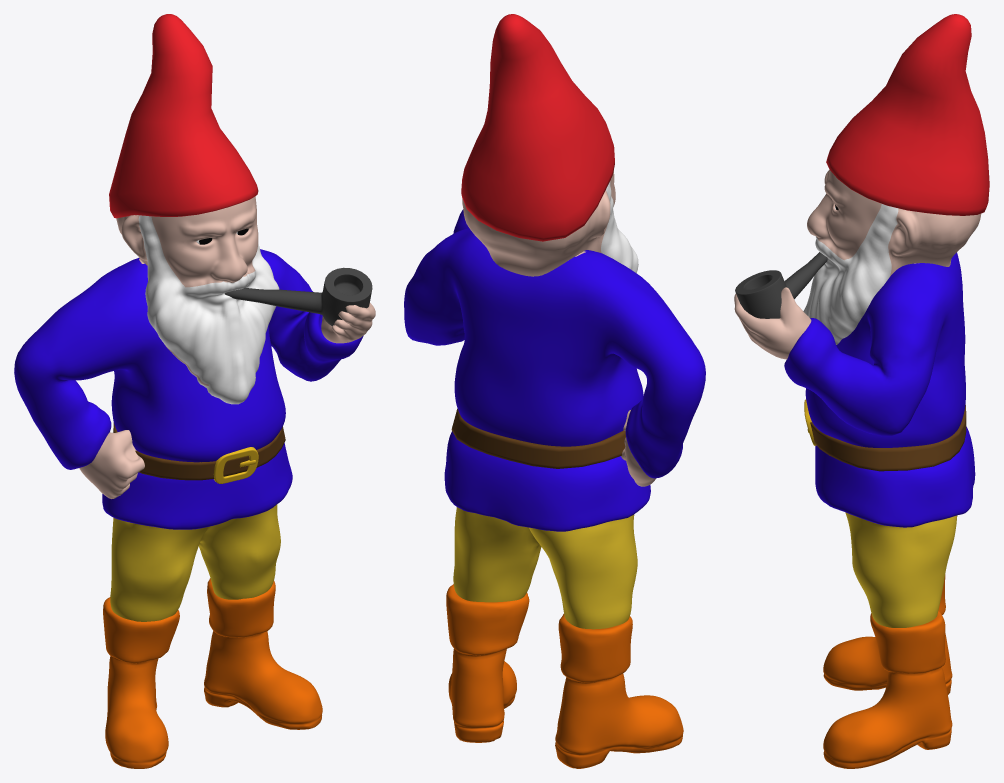
The model's file is Gnome 3.fbx.
The picture shows the model from 3 angles, left to right: view 1: azimuth 30°, elevation 25°; view 2: azimuth 150°, elevation 25°; view 3: azimuth 270°, elevation 25°; orthographic projection. The views are drawn at different scales.
Visible parts, largest first — view 1: Gnome; view 2: Gnome; view 3: Gnome.
Part boxes in pixels (left/top/right/bottom): Gnome: left=14, top=14, right=375, bottom=768; Gnome: left=404, top=14, right=705, bottom=768; Gnome: left=734, top=14, right=989, bottom=768.
Bounding box in the file's own units: 449 × 1005 × 330.
